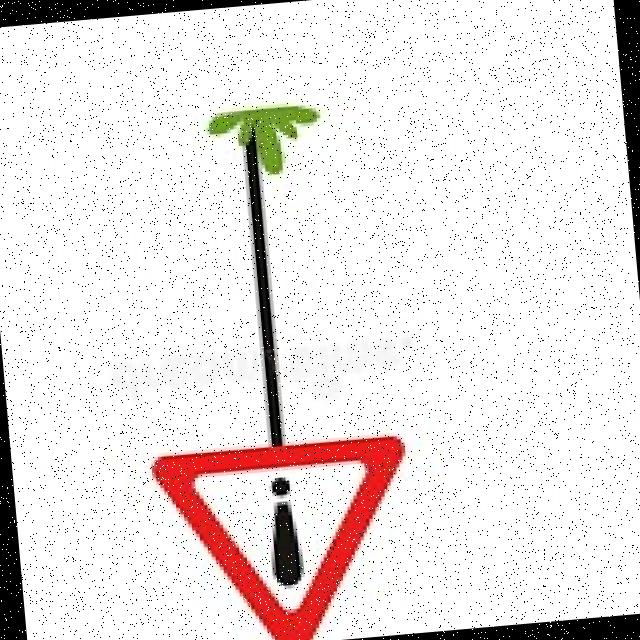warning: (138, 413, 431, 640)
